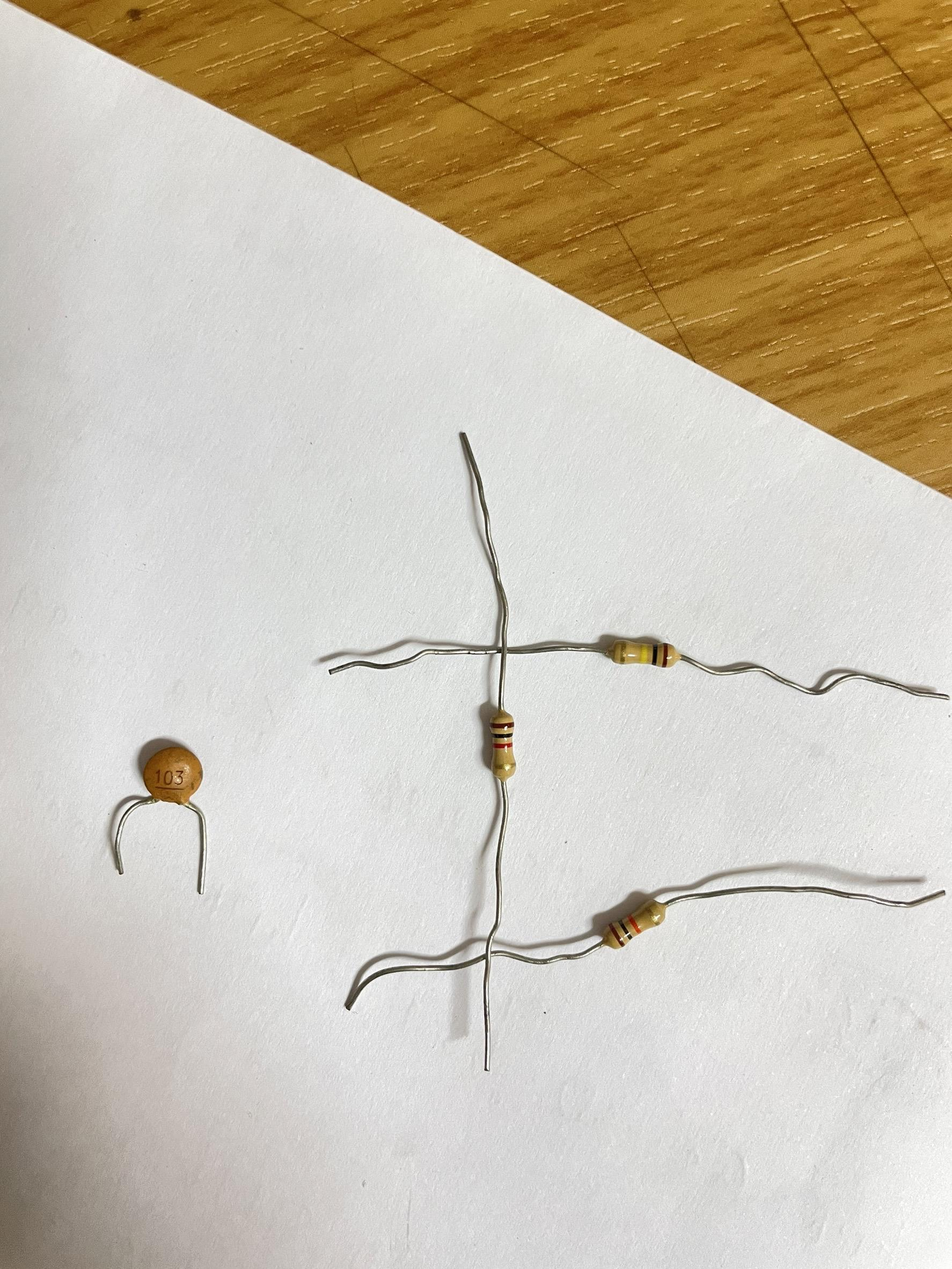resistor: (592, 886, 671, 950), (594, 630, 678, 666), (479, 705, 522, 775)
